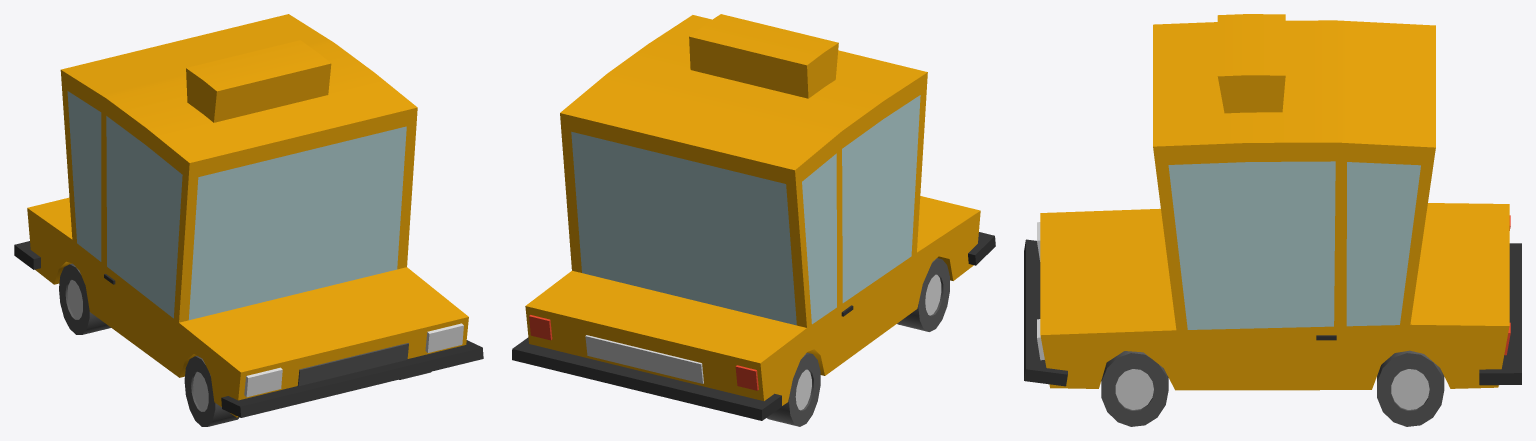
The model's file is yellow_car.glb.
3 views of the same model, side by side, from view 1: azimuth 30°, elevation 25°; view 2: azimuth 150°, elevation 25°; view 3: azimuth 270°, elevation 25° (orthographic). The views are drawn at different scales.
Parts seen in each view (by area): view 1: taxi; view 2: taxi; view 3: taxi.
Part boxes in pixels (box(x1,y1,x2,y2)): taxi: box(14, 14, 483, 426); taxi: box(512, 14, 995, 426); taxi: box(1024, 14, 1521, 426).
Bounding box in the file's own units: 2.14 × 2.48 × 3.47.
